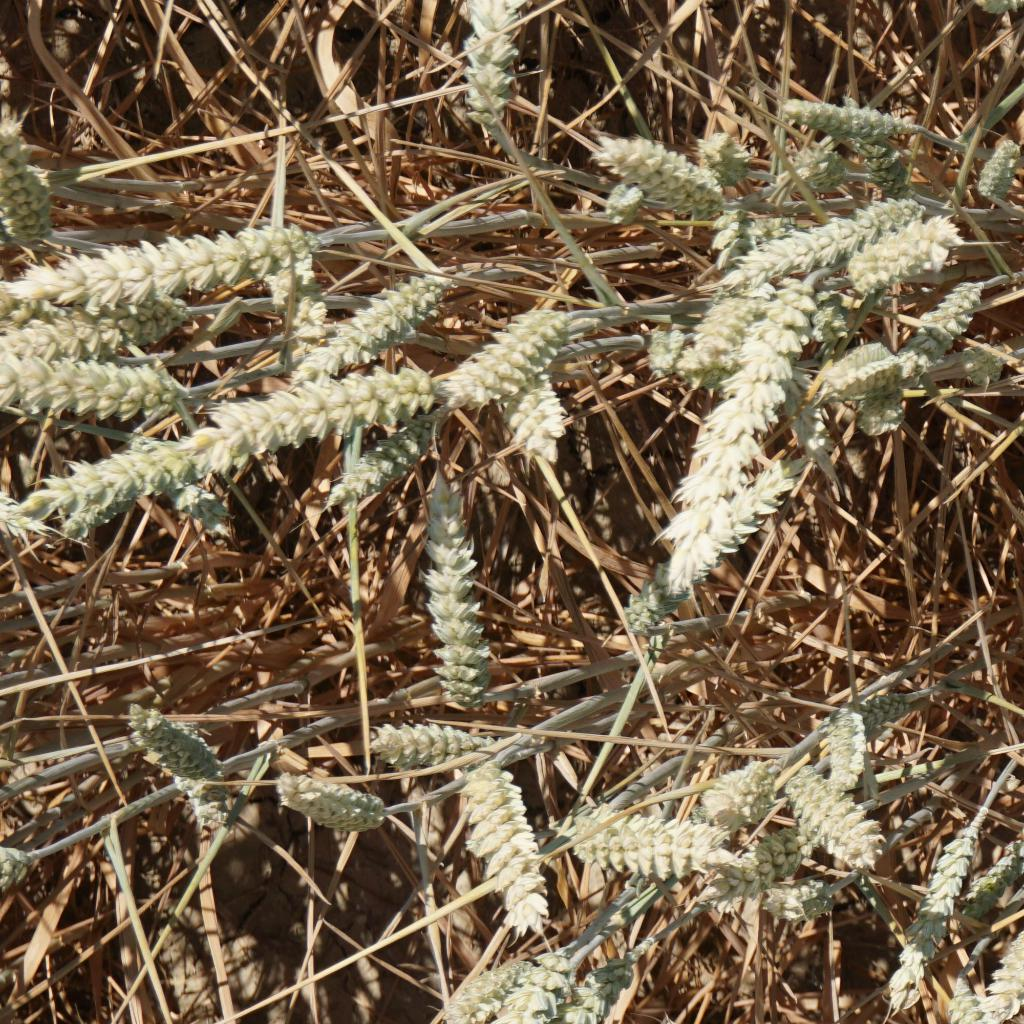0-0: (679, 301, 805, 504), (646, 476, 799, 616), (441, 761, 563, 925), (188, 374, 441, 453), (413, 474, 504, 691), (860, 825, 986, 978), (15, 236, 314, 297), (273, 260, 442, 364), (714, 183, 921, 260), (435, 279, 582, 384), (15, 427, 195, 507), (582, 121, 705, 220), (121, 698, 224, 815), (557, 801, 726, 870), (0, 287, 198, 344), (568, 930, 672, 1024), (0, 358, 183, 411), (852, 216, 978, 291), (783, 758, 874, 860), (364, 714, 516, 774), (673, 269, 752, 384), (338, 403, 431, 498), (451, 0, 525, 112), (905, 277, 1000, 364), (781, 80, 915, 141), (275, 765, 379, 842), (496, 364, 574, 462), (0, 116, 62, 236), (698, 744, 781, 833), (821, 316, 902, 403), (819, 691, 878, 805), (960, 822, 1024, 919), (774, 130, 856, 204), (705, 120, 781, 198), (498, 951, 577, 1024), (439, 939, 506, 1024), (263, 249, 328, 334), (714, 826, 785, 902), (961, 925, 1024, 1008), (161, 460, 232, 533), (777, 868, 848, 931), (857, 677, 934, 733), (809, 275, 862, 352), (976, 125, 1021, 198), (632, 316, 679, 384), (972, 0, 1024, 17)
